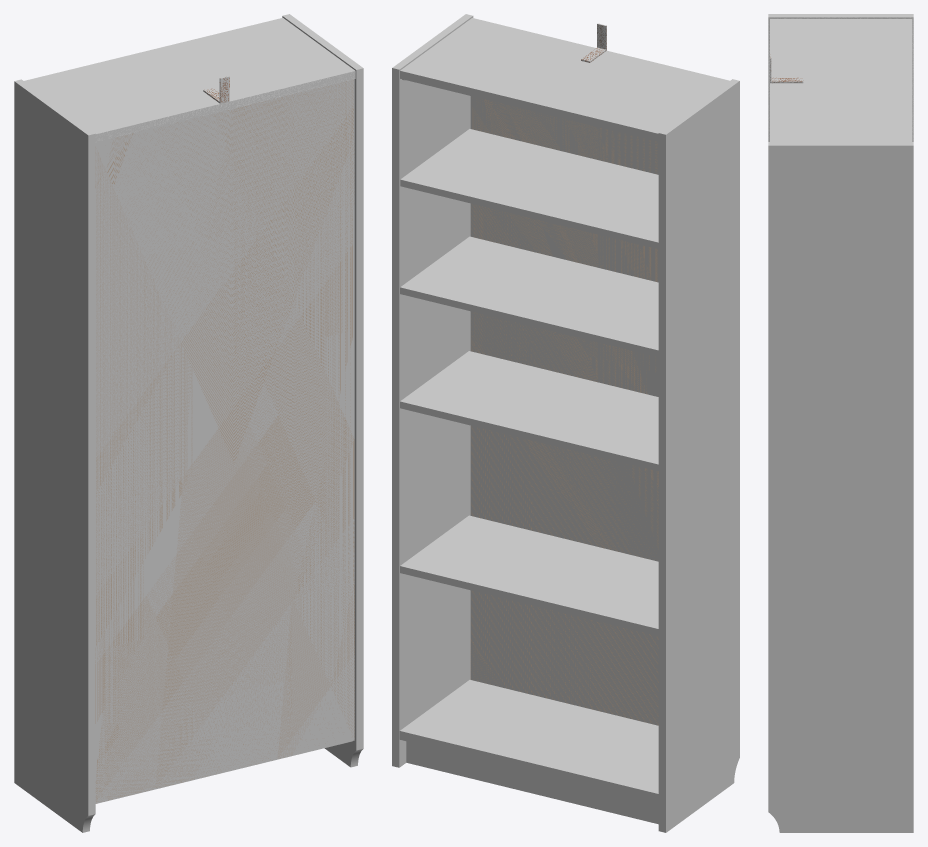
The picture shows the model from 3 angles, left to right: view 1: azimuth 30°, elevation 25°; view 2: azimuth 150°, elevation 25°; view 3: azimuth 270°, elevation 25°; orthographic projection. The views are drawn at different scales.
Visible parts, largest first — view 1: mesh1_mesh1-geometry; view 2: mesh1_mesh1-geometry; view 3: mesh1_mesh1-geometry.
Part boxes in pixels (x1,y1,x2,y2): mesh1_mesh1-geometry: (14, 14, 363, 832); mesh1_mesh1-geometry: (392, 14, 739, 832); mesh1_mesh1-geometry: (768, 14, 913, 832).
Bounding box in the file's own units: 0.3638 × 0.9159 × 0.1697.
